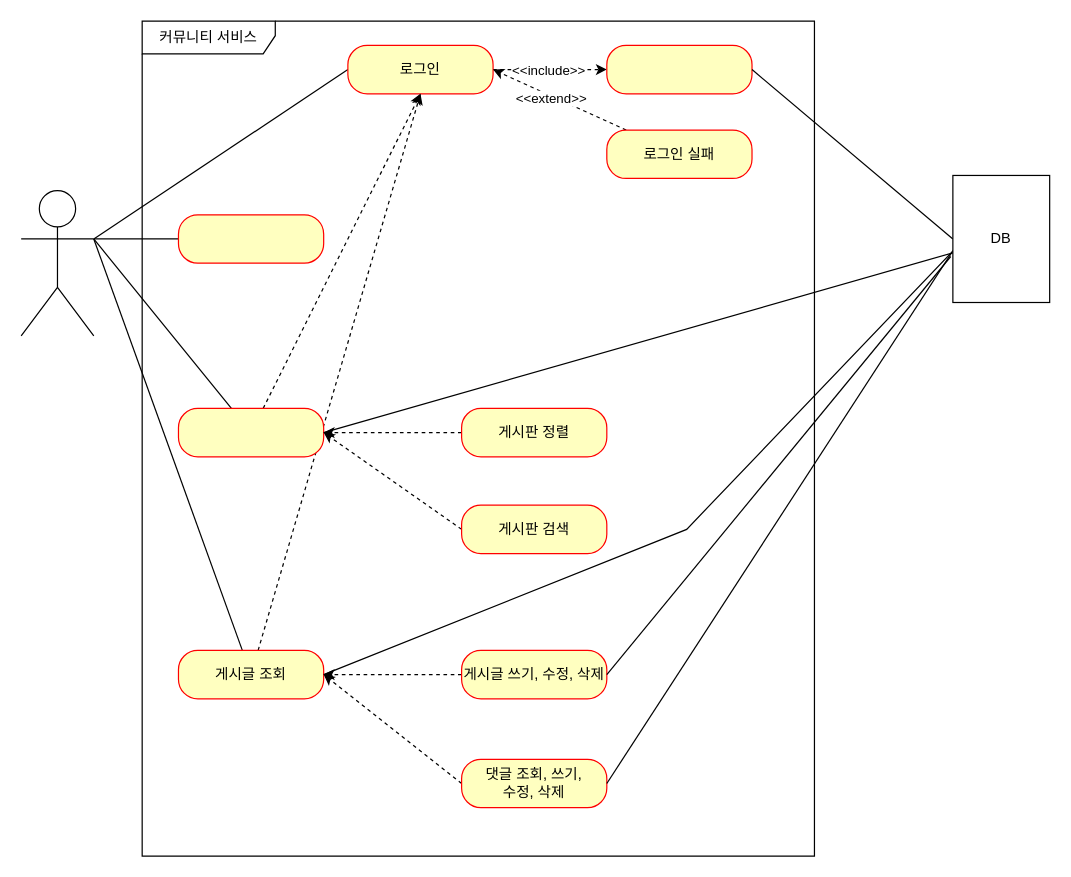
The diagram is 1071 pixels wide and 877 high, and some of its shapes have lost their labels. The box of each missing label's shape, as (x1, y1, x2, y2) in pixels:
게시판 조회: (177, 407, 324, 457)
이용자: (20, 189, 94, 336)
인증: (606, 44, 752, 94)
회원 가입: (177, 214, 324, 263)
